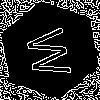W: (25, 25, 81, 80)
